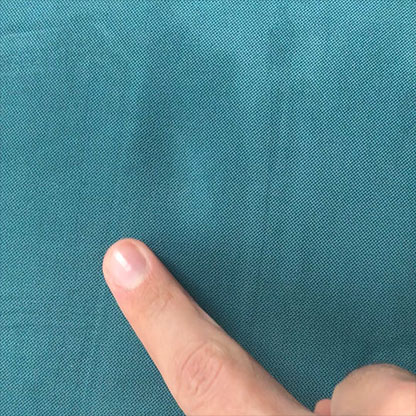fingertip: (89, 229, 166, 303)
